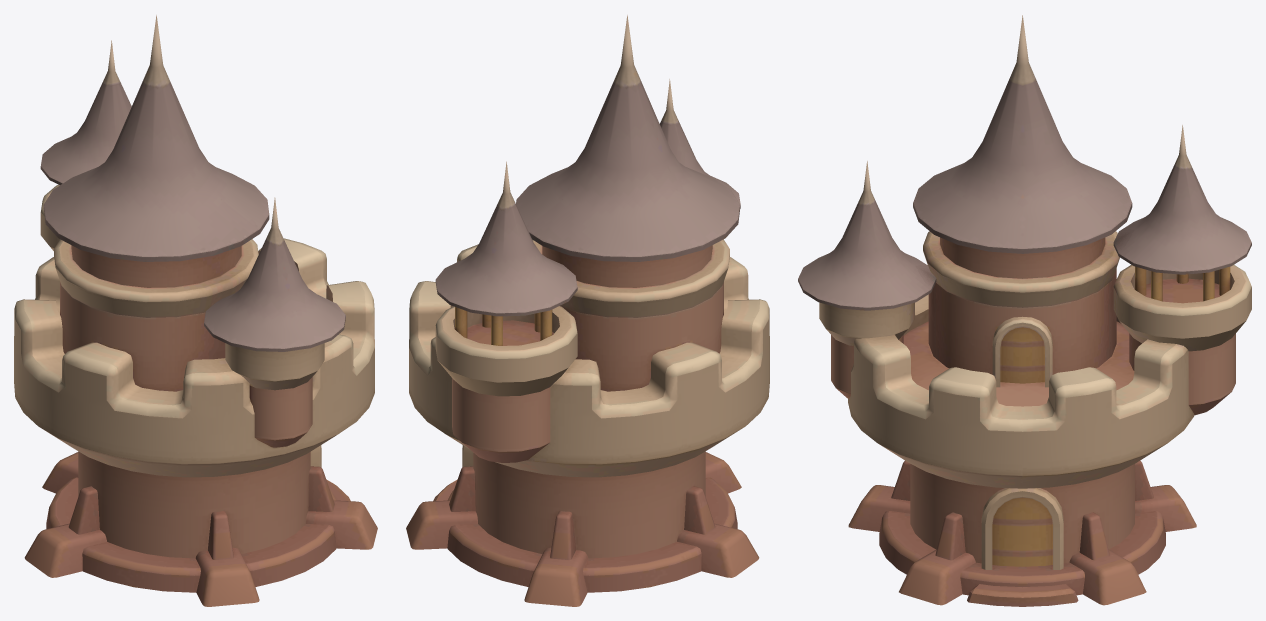
Rendered from Props.fbx.
3 views of the same model, side by side, from view 1: azimuth 30°, elevation 25°; view 2: azimuth 150°, elevation 25°; view 3: azimuth 270°, elevation 25° (orthographic). The views are drawn at different scales.
Parts seen in each view (by area): view 1: ChengBao; view 2: ChengBao; view 3: ChengBao.
Boxes of the visible parts, box(x1,y1,x2,y2) form: ChengBao: box(14, 15, 377, 606); ChengBao: box(406, 15, 769, 606); ChengBao: box(798, 15, 1251, 606).
Size of the model in its own units: 5.76 by 9.2 by 7.46.
Materials: 1 (1 with a texture image).
